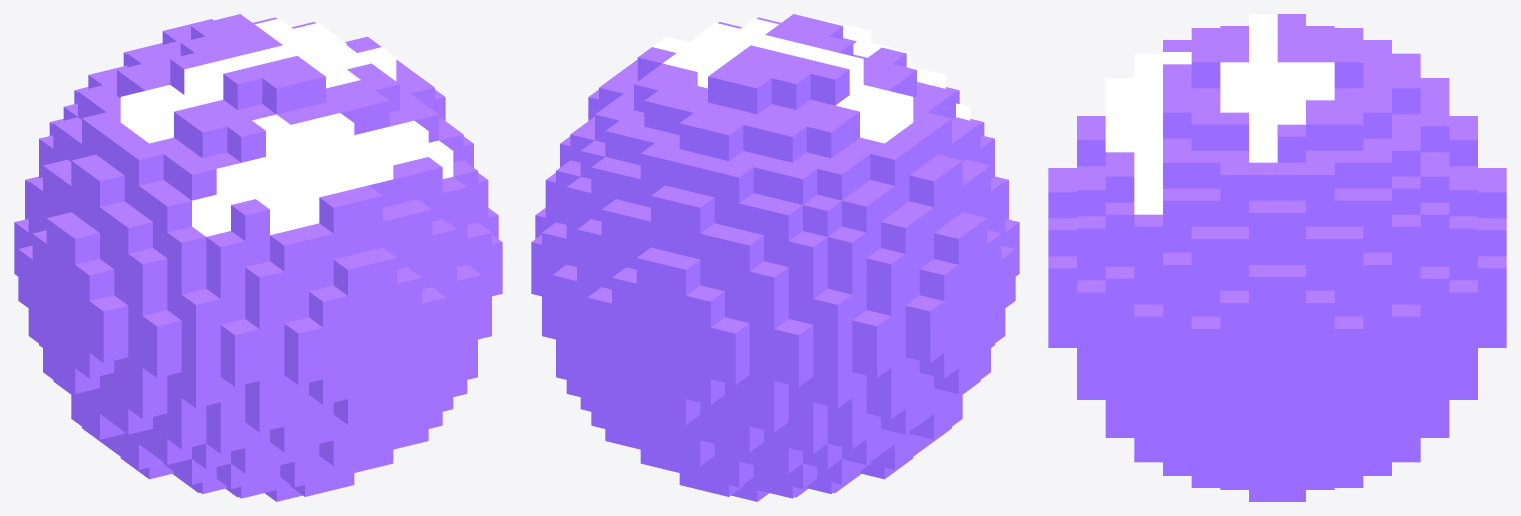
File: item_RECYCLE.glb
The picture shows the model from 3 angles, left to right: view 1: azimuth 30°, elevation 25°; view 2: azimuth 150°, elevation 25°; view 3: azimuth 270°, elevation 25°; orthographic projection.
Visible parts, largest first — view 1: item_RECYCLE; view 2: item_RECYCLE; view 3: item_RECYCLE.
Boxes of the visible parts, x1,y1,x2,y2 form: item_RECYCLE: (14, 14, 502, 501); item_RECYCLE: (531, 14, 1019, 501); item_RECYCLE: (1048, 14, 1506, 501).
Bounding box in the file's own units: 0.1818 × 0.1818 × 0.1818.
Materials: 1 (1 with a texture image).
